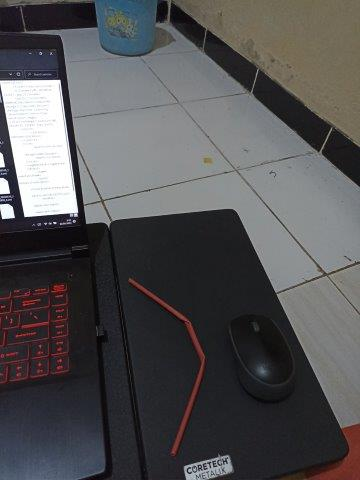sedotan: (128, 277, 206, 453)
